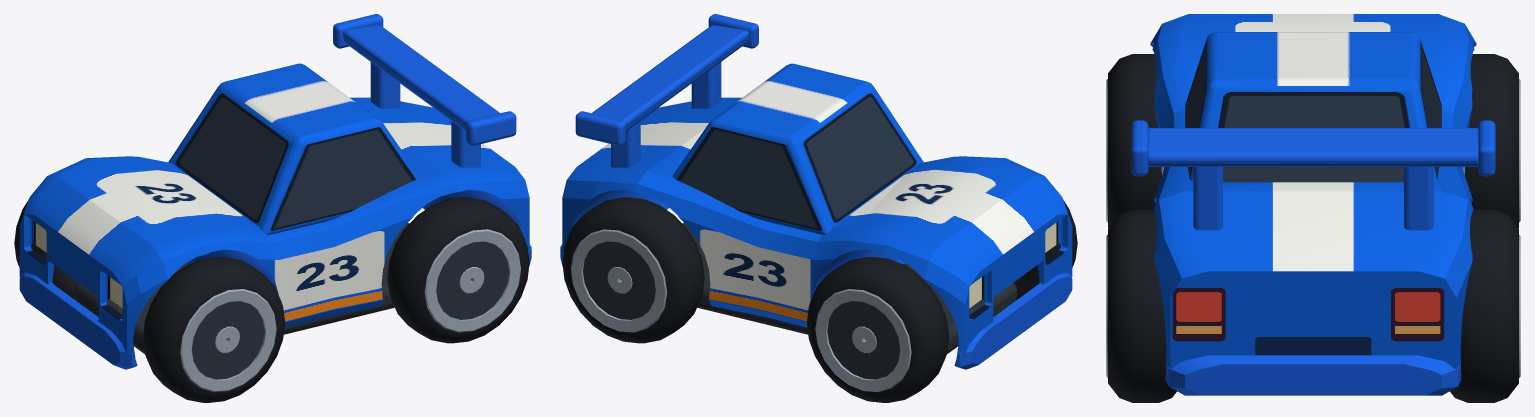
The model's file is M03_candidate.fbx.
3 renders of one model, left to right at view 1: azimuth 30°, elevation 25°; view 2: azimuth 150°, elevation 25°; view 3: azimuth 270°, elevation 25°, orthographic. The views are drawn at different scales.
Parts seen in each view (by area): view 1: BODY_ArchSculptedCoupe, CABIN_RakedCoupe, WHEEL_RL_Tire, WHEEL_FL_Tire, WING_CurvedBlade, WHEEL_RL_InsetHub, WHEEL_FL_InsetHub, FRONT_MODULE_FormedBumper, WHEEL_RL_RimLip, WHEEL_FL_RimLip, CHASSIS_CentralSpine, WING_EndPlate_L (+6 smaller); view 2: BODY_ArchSculptedCoupe, CABIN_RakedCoupe, WHEEL_RR_Tire, WHEEL_FR_Tire, WING_CurvedBlade, WHEEL_RR_InsetHub, WHEEL_FR_InsetHub, FRONT_MODULE_FormedBumper, WHEEL_RR_RimLip, WHEEL_FR_RimLip, CHASSIS_CentralSpine, WING_EndPlate_R (+6 smaller); view 3: BODY_ArchSculptedCoupe, CABIN_RakedCoupe, WING_CurvedBlade, REAR_MODULE_FormedBumper, WHEEL_RL_Tire, WHEEL_RR_Tire, WHEEL_FL_Tire, WHEEL_FR_Tire, WING_Mount_L, WING_Mount_R, WING_EndPlate_L, WING_EndPlate_R.
Boxes of the visible parts, left/top/right/bottom form: BODY_ArchSculptedCoupe: left=19, top=97, right=529, bottom=357; CABIN_RakedCoupe: left=168, top=63, right=419, bottom=234; WHEEL_RL_Tire: left=387, top=197, right=529, bottom=343; WHEEL_FL_Tire: left=143, top=257, right=285, bottom=402; WING_CurvedBlade: left=343, top=25, right=499, bottom=131; WHEEL_RL_InsetHub: left=436, top=241, right=508, bottom=319; WHEEL_FL_InsetHub: left=191, top=301, right=264, bottom=379; FRONT_MODULE_FormedBumper: left=19, top=272, right=137, bottom=369; WHEEL_RL_RimLip: left=424, top=229, right=520, bottom=332; WHEEL_FL_RimLip: left=180, top=289, right=276, bottom=392; CHASSIS_CentralSpine: left=75, top=223, right=409, bottom=353; WING_EndPlate_L: left=466, top=111, right=516, bottom=145; BODY_ArchSculptedCoupe: left=562, top=97, right=1072, bottom=357; CABIN_RakedCoupe: left=672, top=63, right=923, bottom=234; WHEEL_RR_Tire: left=562, top=197, right=704, bottom=343; WHEEL_FR_Tire: left=806, top=257, right=948, bottom=402; WING_CurvedBlade: left=592, top=25, right=748, bottom=131; WHEEL_RR_InsetHub: left=583, top=241, right=655, bottom=319; WHEEL_FR_InsetHub: left=827, top=301, right=900, bottom=379; FRONT_MODULE_FormedBumper: left=954, top=272, right=1072, bottom=369; WHEEL_RR_RimLip: left=571, top=229, right=667, bottom=332; WHEEL_FR_RimLip: left=815, top=289, right=911, bottom=392; CHASSIS_CentralSpine: left=682, top=223, right=1016, bottom=353; WING_EndPlate_R: left=575, top=111, right=625, bottom=145; BODY_ArchSculptedCoupe: left=1150, top=14, right=1476, bottom=373; CABIN_RakedCoupe: left=1185, top=32, right=1441, bottom=182; WING_CurvedBlade: left=1148, top=128, right=1478, bottom=166; REAR_MODULE_FormedBumper: left=1165, top=355, right=1461, bottom=395; WHEEL_RL_Tire: left=1108, top=209, right=1176, bottom=402; WHEEL_RR_Tire: left=1450, top=209, right=1518, bottom=402; WHEEL_FL_Tire: left=1108, top=54, right=1161, bottom=227; WHEEL_FR_Tire: left=1465, top=54, right=1518, bottom=227; WING_Mount_L: left=1193, top=167, right=1222, bottom=230; WING_Mount_R: left=1404, top=167, right=1433, bottom=230; WING_EndPlate_L: left=1131, top=120, right=1148, bottom=176; WING_EndPlate_R: left=1478, top=120, right=1495, bottom=176.
Bounding box in the file's own units: 9.46 × 4.7 × 6.3.
